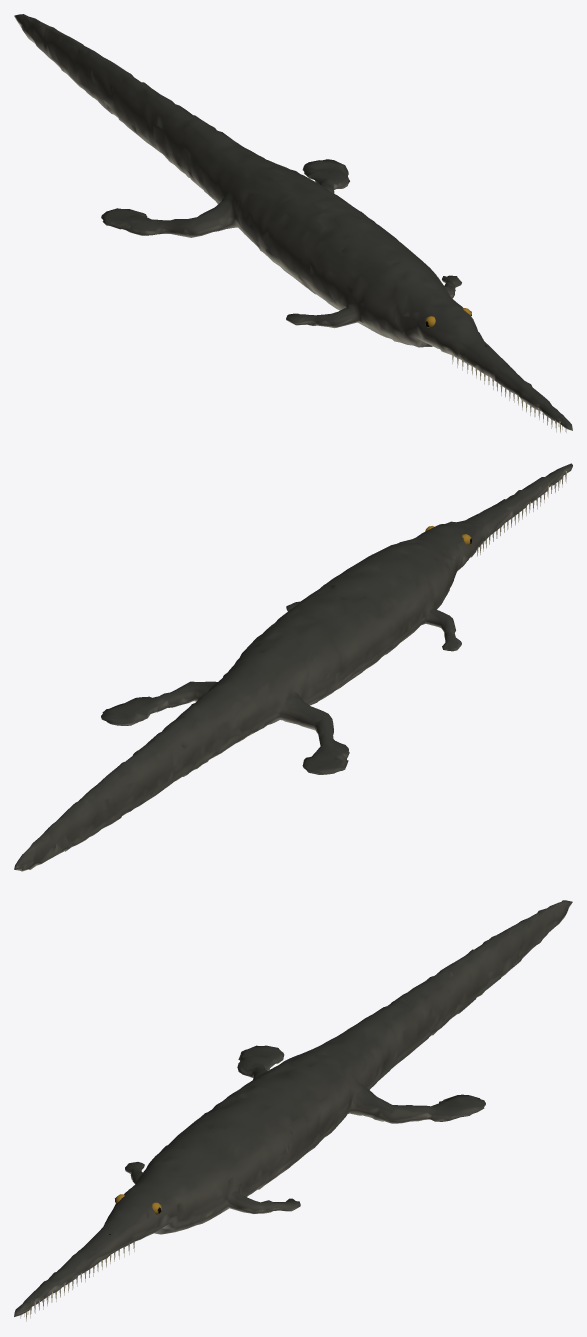
Rendered from Mesosaurus.fbx.
3 renders of one model, top to bottom at view 1: azimuth 30°, elevation 25°; view 2: azimuth 150°, elevation 25°; view 3: azimuth 330°, elevation 25°, orthographic.
Visible parts, largest first — view 1: Mesosaurus; view 2: Mesosaurus; view 3: Mesosaurus.
Part boxes in pixels (x1,y1,x2,y2): Mesosaurus: (14, 14, 572, 432); Mesosaurus: (14, 463, 572, 871); Mesosaurus: (14, 900, 572, 1321).
Bounding box in the file's own units: 0.4612 × 0.1474 × 1.87.
